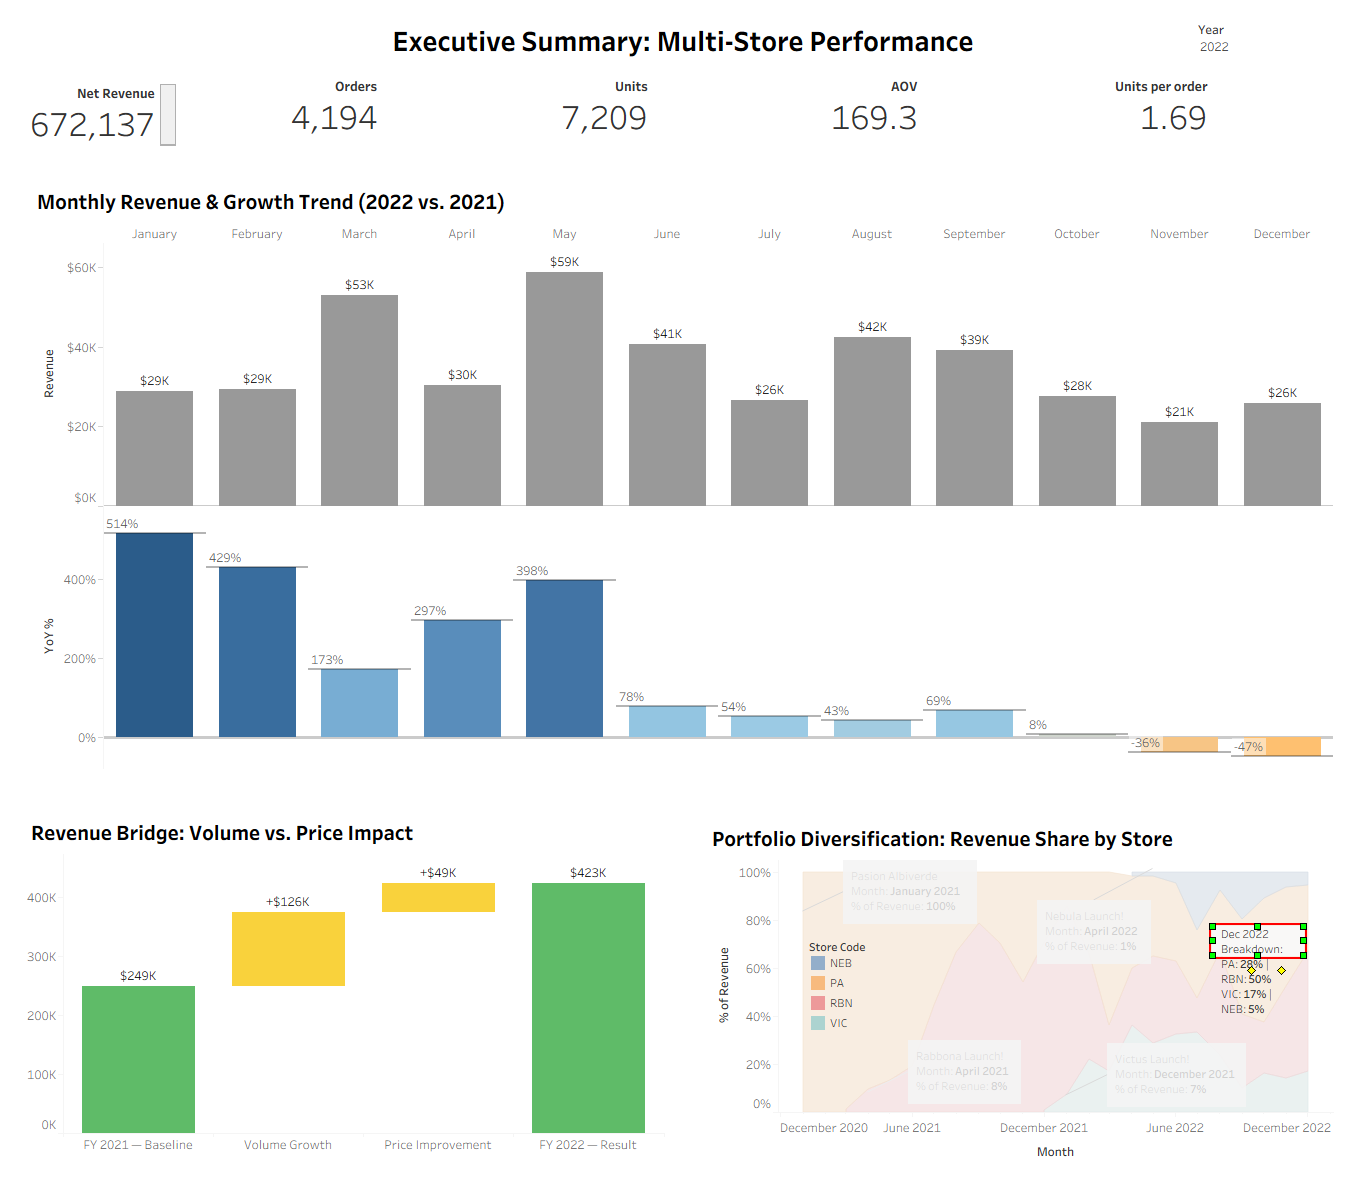

The page's visual inventory and layout, read from the dashboard file:
{"tool":"tableau","page":{"name":"Dashboard 1","canvas":[1366,1200],"ordinal":0},"visuals":[{"type":"text","box":[8,8,1350,64.5]},{"type":"parameter","param":"[Parameters].[Parameter 1]","box":[1198,20.3,160,68.7]},{"type":"worksheet","title":"KPI - Net Revenue","mark":"Automatic","box":[8,73,270,83]},{"type":"worksheet","title":"KPI - Orders","mark":"Automatic","box":[278,73,270,83]},{"type":"worksheet","title":"KPI - Units","mark":"Automatic","box":[548,73,270,83]},{"type":"worksheet","title":"KPI - AOV","mark":"Automatic","box":[818,73,270,83]},{"type":"worksheet","title":"KPI - UPO","mark":"Automatic","box":[1088,73,270,83]},{"type":"worksheet","title":"S2B Monthly YoY (pYear)","mark":"Automatic","rows":["Calculation_0079749210488837","Calculation_0079749206110211"],"cols":["Calculation_0027452790370311","year"],"box":[8,156,1350,637]},{"type":"worksheet","title":"Growth Bridge","mark":"GanttBar","rows":["base"],"cols":["label"],"box":[8,793,675,399]},{"type":"worksheet","title":"Mix Shift","mark":"Area","cols":["week_start_date"],"box":[683,793,675,399]},{"type":"legend","title":"Mix Shift","param":"[federated.1yewvmx0xn0xh313qdmxo02ld3xe].[none:store_code:nk]","box":[808,937,140,197]}]}

Visuals, with their boxes in screenshot pixels (x1, y1, x2, y2), scaled from the page's 1366x1200 canvas onto the 1366x1200 screenshot:
text: (x1=8, y1=8, x2=1358, y2=72)
parameter: (x1=1198, y1=20, x2=1358, y2=89)
"KPI - Net Revenue" worksheet: (x1=8, y1=73, x2=278, y2=156)
"KPI - Orders" worksheet: (x1=278, y1=73, x2=548, y2=156)
"KPI - Units" worksheet: (x1=548, y1=73, x2=818, y2=156)
"KPI - AOV" worksheet: (x1=818, y1=73, x2=1088, y2=156)
"KPI - UPO" worksheet: (x1=1088, y1=73, x2=1358, y2=156)
"S2B Monthly YoY (pYear)" worksheet: (x1=8, y1=156, x2=1358, y2=793)
"Growth Bridge" worksheet (GanttBar marks): (x1=8, y1=793, x2=683, y2=1192)
"Mix Shift" worksheet (Area marks): (x1=683, y1=793, x2=1358, y2=1192)
"Mix Shift" legend: (x1=808, y1=937, x2=948, y2=1134)
